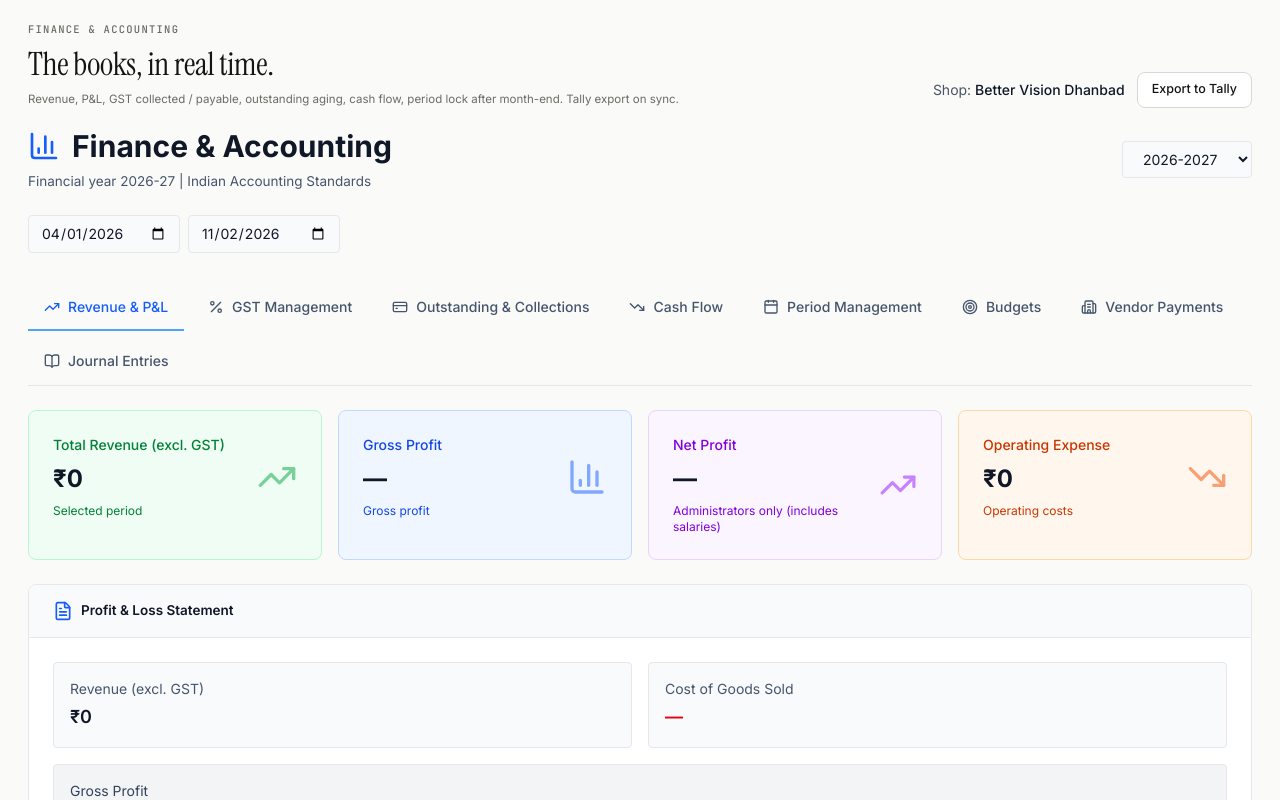
Finance dashboard - supplier figures follow the dashboard shop › an accountant reads his own shop, with no picker, and is told which
Click the button "Outstanding & Collections".
click(491, 308)  # box x1=376 y1=285 x2=606 y2=331
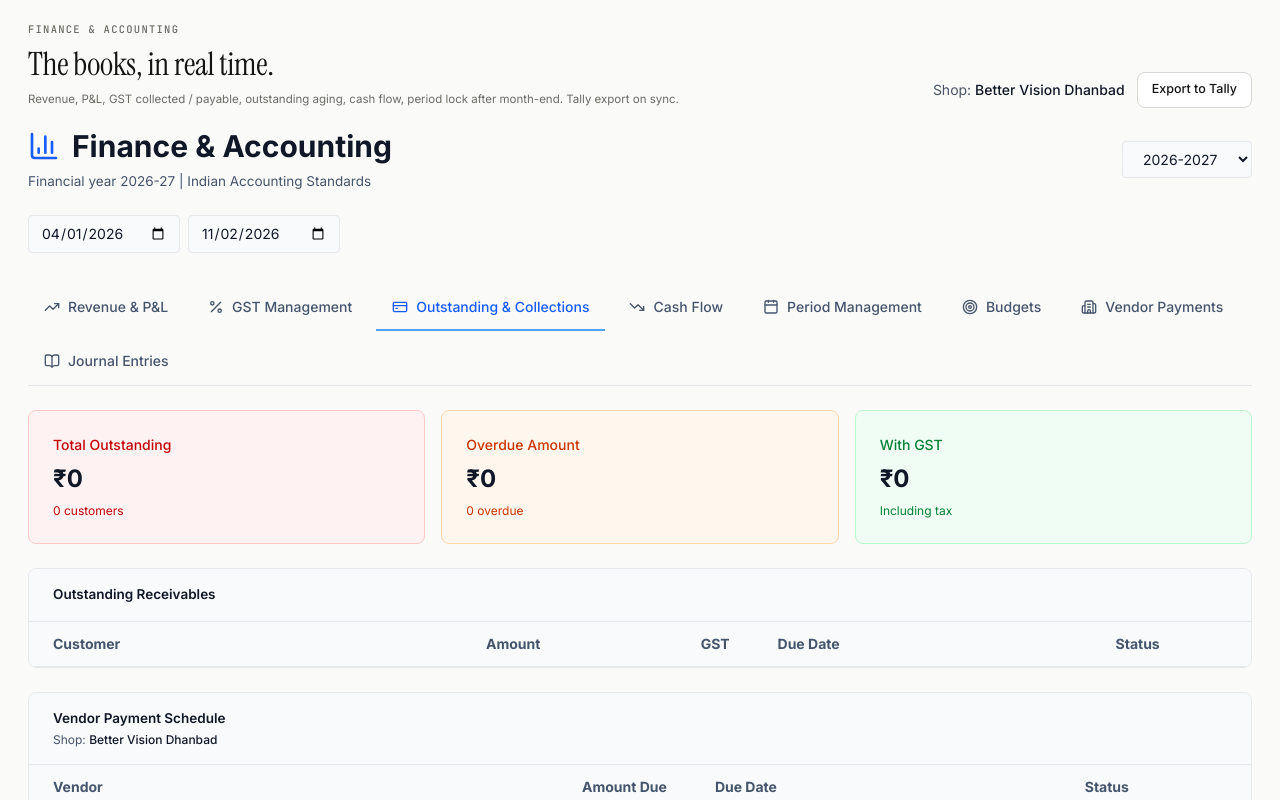
Expected: the text "Better Vision Dhanbad" below "Vendor Payment Schedule" is shown, x1=89 y1=732 x2=217 y2=747
Result: the text "Shop: Better Vision Dhanbad" below "Vendor Payment Schedule" is shown at x1=53 y1=732 x2=89 y2=747
